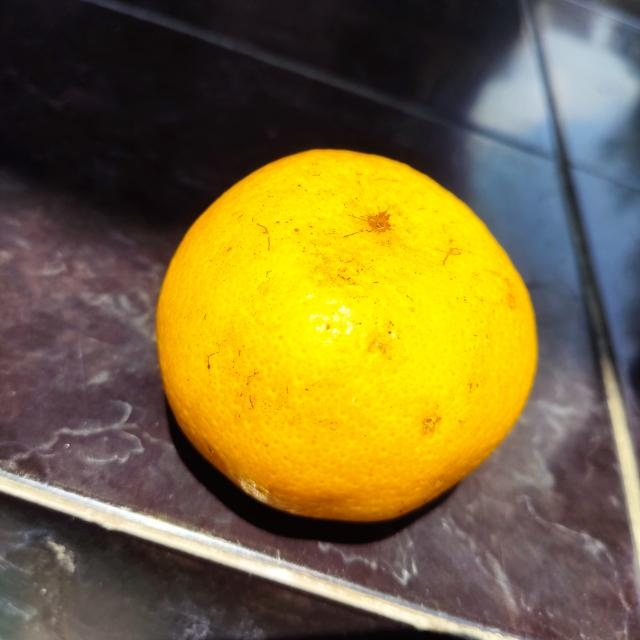agrume: (153, 145, 535, 523)
